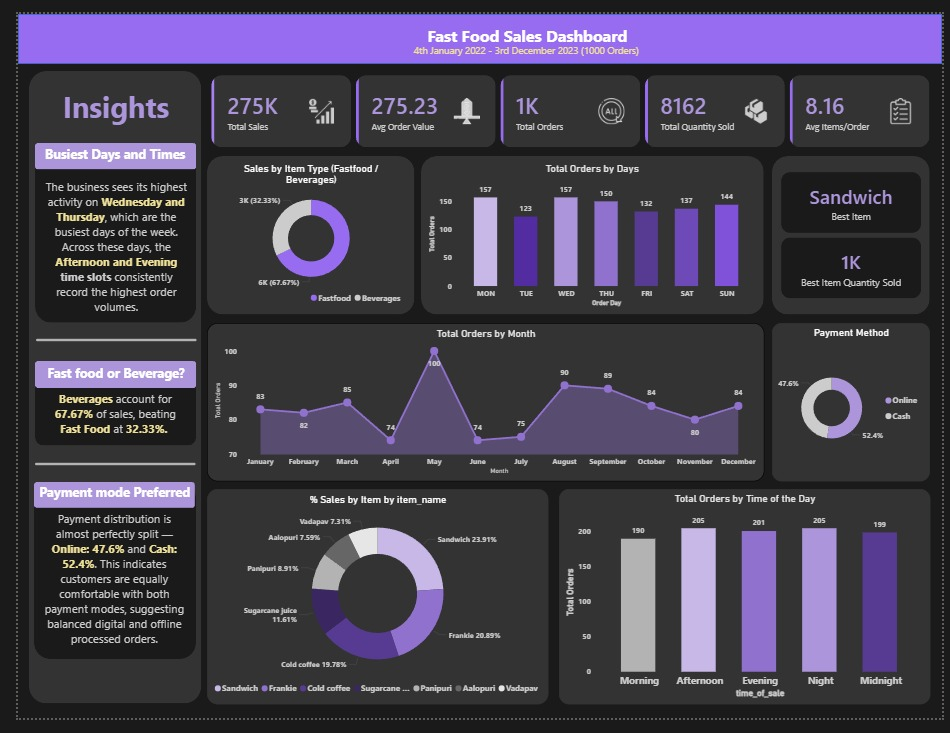

The page's visual inventory and layout, read from the dashboard file:
{"tool":"powerbi","page":{"name":"Page 1","canvas":[1540,1172],"ordinal":0},"visuals":[{"type":"cardVisual","fields":{"Data":["balaji_sales.Total Sales","balaji_sales.Average Order Value","balaji_sales.Total Orders","balaji_sales.Total Quantity Sold","balaji_sales.Average Items Per Order"]},"box":[305,85,1233.3,151.7],"z":0},{"type":"shape","box":[0,0,1540,83.3],"z":1000},{"type":"textbox","box":[502.9,12.9,691.4,82.9],"z":2000},{"type":"textbox","box":[595.7,45.7,504.3,38.6],"z":3000},{"type":"shape","box":[315.7,237.1,345.7,264.3],"z":4000},{"type":"donutChart","title":"Sales by Item Type (Fastfood / Beverages)","fields":{"Category":["balaji_sales.item_type"],"Y":["balaji_sales.quantity"]},"box":[330,247.1,317.1,245.7],"z":5000},{"type":"shape","box":[671.4,237.1,571.4,264.3],"z":6000},{"type":"columnChart","title":"Total Orders by Days","fields":{"Y":["balaji_sales.Total Orders"],"Category":["balaji_sales.Order Day"]},"box":[680,247.1,554.3,245.7],"z":7000},{"type":"shape","box":[1257.1,237.1,262.9,264.3],"z":8000},{"type":"cardVisual","fields":{"Data":["balaji_sales.Best Item","balaji_sales.Best Item Quantity"]},"box":[1254.3,247.1,267.1,245.7],"z":9000},{"type":"areaChart","fields":{"Category":["balaji_sales.date.Variation.Date Hierarchy.Month"],"Y":["balaji_sales.Total Orders"]},"box":[314.3,514.3,928.6,264.3],"z":10000},{"type":"donutChart","fields":{"Y":["balaji_sales.% Sales by Item"],"Category":["balaji_sales.item_name"]},"box":[315.7,791.4,568.6,358.6],"z":11000},{"type":"columnChart","title":"Total Orders by Time of the Day","fields":{"Y":["balaji_sales.Total Orders"],"Category":["balaji_sales.time_of_sale"]},"box":[901.4,791.4,618.6,358.6],"z":12000},{"type":"donutChart","title":"Payment Method","fields":{"Y":["balaji_sales.Total Orders"],"Category":["balaji_sales.transaction_type"]},"box":[1257.1,514.3,262.9,264.3],"z":13000},{"type":"shape","box":[18.6,95.7,287.1,1054.3],"z":14000},{"type":"shape","box":[28.8,217.5,268.8,296.2],"z":15000},{"type":"shape","box":[28.6,214.3,268.6,44.3],"z":16000},{"type":"textbox","box":[35,213.8,253.8,43.8],"z":17000},{"type":"textbox","box":[12.9,117.1,300,87.1],"z":18000},{"type":"textbox","box":[37.5,270,251.2,243.8],"z":19000},{"type":"shape","box":[28.6,585.7,268.6,134.3],"z":20000},{"type":"shape","box":[28.8,577.5,268.8,45],"z":21000},{"type":"textbox","box":[36.2,578.8,253.8,43.8],"z":22000},{"type":"textbox","box":[37.1,622.9,251.4,87.1],"z":23000},{"type":"shape","box":[30,392.5,267.5,300],"z":24000},{"type":"shape","box":[28.8,600,267.5,300],"z":25000},{"type":"shape","box":[26.7,780,270,348.3],"z":26000},{"type":"shape","box":[26.7,780,268.3,43.3],"z":27000},{"type":"textbox","box":[8.6,777.1,305.7,45.7],"z":28000},{"type":"textbox","box":[35.7,822.9,251.4,244.3],"z":28001}]}

Visuals, with their boxes in screenshot pixels (x1, y1, x2, y2), scaled from the page's 1540x1172 canvas onto the 950x733 screenshot:
cardVisual - balaji_sales.Total Sales x balaji_sales.Average Order Value: (left=188, top=53, right=949, bottom=148)
shape: (left=0, top=0, right=949, bottom=52)
textbox: (left=310, top=8, right=737, bottom=60)
textbox: (left=367, top=29, right=679, bottom=53)
shape: (left=195, top=148, right=408, bottom=314)
"Sales by Item Type (Fastfood / Beverages)" donutChart: (left=204, top=155, right=399, bottom=308)
shape: (left=414, top=148, right=767, bottom=314)
"Total Orders by Days" columnChart: (left=419, top=155, right=761, bottom=308)
shape: (left=775, top=148, right=938, bottom=314)
cardVisual - balaji_sales.Best Item x balaji_sales.Best Item Quantity: (left=774, top=155, right=939, bottom=308)
areaChart - balaji_sales.date.Variation.Date Hierarchy.Month x balaji_sales.Total Orders: (left=194, top=322, right=767, bottom=487)
donutChart - balaji_sales.% Sales by Item x balaji_sales.item_name: (left=195, top=495, right=546, bottom=719)
"Total Orders by Time of the Day" columnChart: (left=556, top=495, right=938, bottom=719)
"Payment Method" donutChart: (left=775, top=322, right=938, bottom=487)
shape: (left=11, top=60, right=189, bottom=719)
shape: (left=18, top=136, right=184, bottom=321)
shape: (left=18, top=134, right=183, bottom=162)
textbox: (left=22, top=134, right=178, bottom=161)
textbox: (left=8, top=73, right=193, bottom=128)
textbox: (left=23, top=169, right=178, bottom=321)
shape: (left=18, top=366, right=183, bottom=450)
shape: (left=18, top=361, right=184, bottom=389)
textbox: (left=22, top=362, right=179, bottom=389)
textbox: (left=23, top=390, right=178, bottom=444)
shape: (left=19, top=245, right=184, bottom=433)
shape: (left=18, top=375, right=183, bottom=563)
shape: (left=16, top=488, right=183, bottom=706)
shape: (left=16, top=488, right=182, bottom=515)
textbox: (left=5, top=486, right=194, bottom=515)
textbox: (left=22, top=515, right=177, bottom=667)
